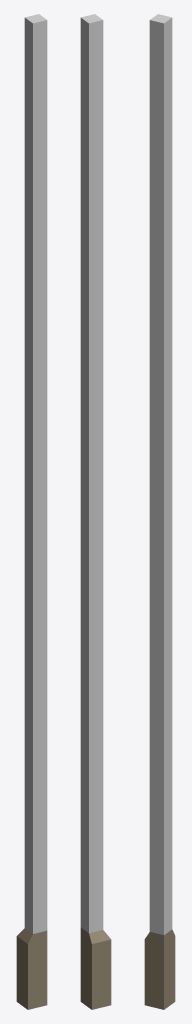
File: innerWall_exteriorCorner_mesh.fbx
3 views of the same model, side by side, from view 1: azimuth 30°, elevation 25°; view 2: azimuth 210°, elevation 25°; view 3: azimuth 330°, elevation 25° (orthographic).
Visible parts, largest first — view 1: innerWall_exteriorCorner_mesh; view 2: innerWall_exteriorCorner_mesh; view 3: innerWall_exteriorCorner_mesh.
Part boxes in pixels (x1,y1,x2,y2): innerWall_exteriorCorner_mesh: [16, 14, 47, 1009]; innerWall_exteriorCorner_mesh: [80, 14, 111, 1009]; innerWall_exteriorCorner_mesh: [144, 14, 175, 1009].
Size of the model in its own units: 0.0201 by 0.9777 by 0.0201.
